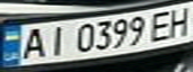0: (72, 20, 96, 53)
3: (93, 18, 115, 52)
9: (127, 12, 151, 47), (109, 16, 133, 50)
A: (15, 25, 51, 61)
E: (145, 8, 178, 43)
H: (163, 3, 193, 38)
I: (42, 23, 72, 57)
